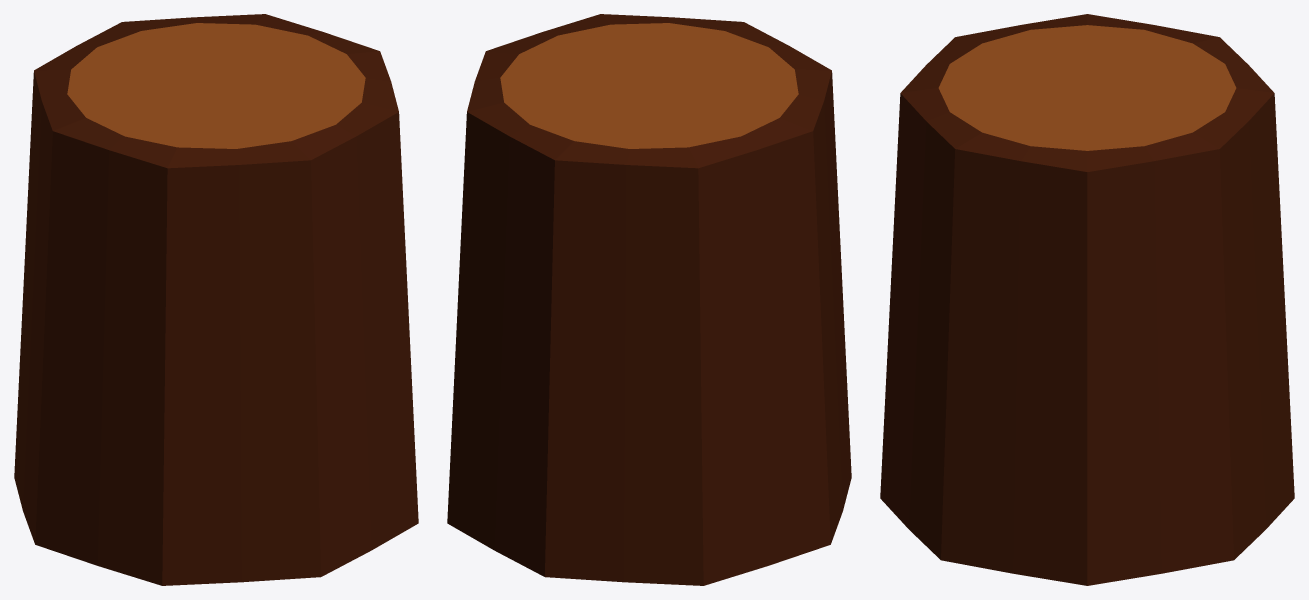
The model's file is ObstacleStump.fbx.
The picture shows the model from 3 angles, left to right: view 1: azimuth 30°, elevation 25°; view 2: azimuth 150°, elevation 25°; view 3: azimuth 270°, elevation 25°; orthographic projection.
Visible parts, largest first — view 1: ObstacleStump; view 2: ObstacleStump; view 3: ObstacleStump.
Boxes of the visible parts, x1=… form: ObstacleStump: x1=14, y1=14, x2=418, y2=585; ObstacleStump: x1=447, y1=14, x2=851, y2=585; ObstacleStump: x1=880, y1=14, x2=1294, y2=585.
Size of the model in its own units: 1.48 by 1.48 by 1.62.
